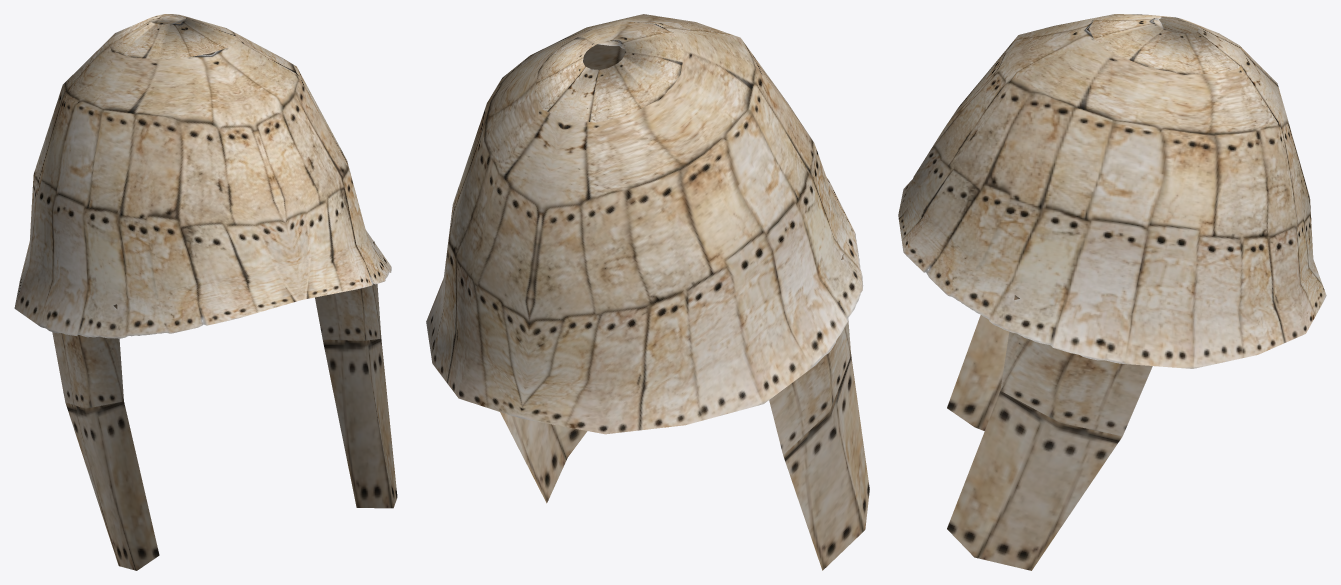
The model's file is boar_tusk_helmet.dae.
The picture shows the model from 3 angles, left to right: view 1: azimuth 30°, elevation 25°; view 2: azimuth 150°, elevation 25°; view 3: azimuth 270°, elevation 25°; orthographic projection. The views are drawn at different scales.
Visible parts, largest first — view 1: boar_tusk_helmet.001; view 2: boar_tusk_helmet.001; view 3: boar_tusk_helmet.001.
Boxes of the visible parts, x1=… form: boar_tusk_helmet.001: x1=14, y1=14, x2=397, y2=570; boar_tusk_helmet.001: x1=426, y1=14, x2=869, y2=570; boar_tusk_helmet.001: x1=898, y1=14, x2=1326, y2=570.
Size of the model in its own units: 0.4698 by 0.5332 by 0.6724.
